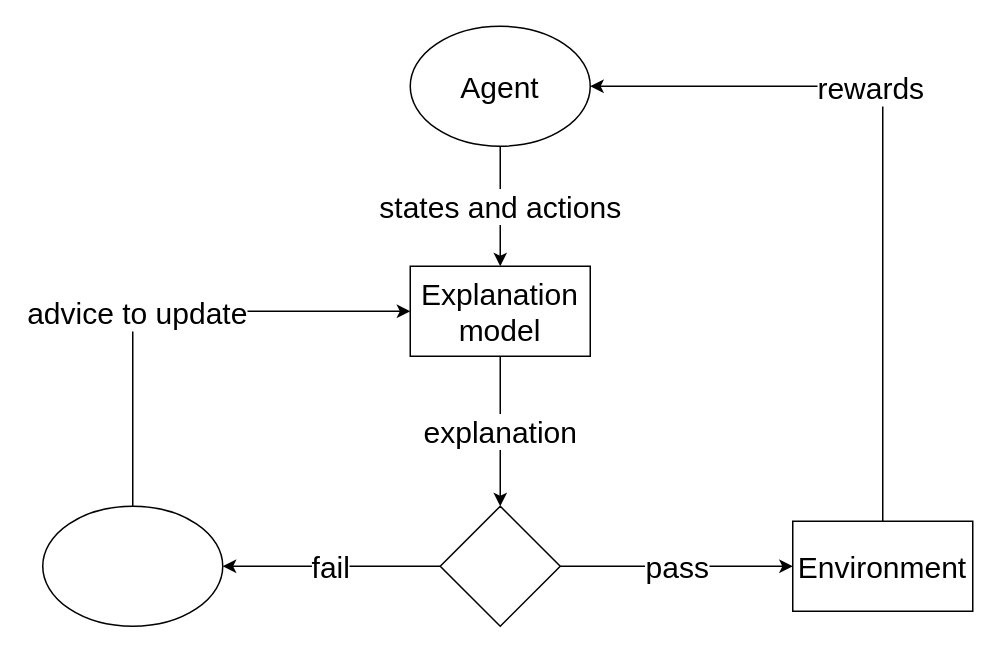
The diagram is 999 pixels wide and 653 high, and some of its shapes have lost their labels. Here are the shapes that lost their labels. From the top down, the centre of each, then its label:
point 132,565: Human
point 499,565: Filter
